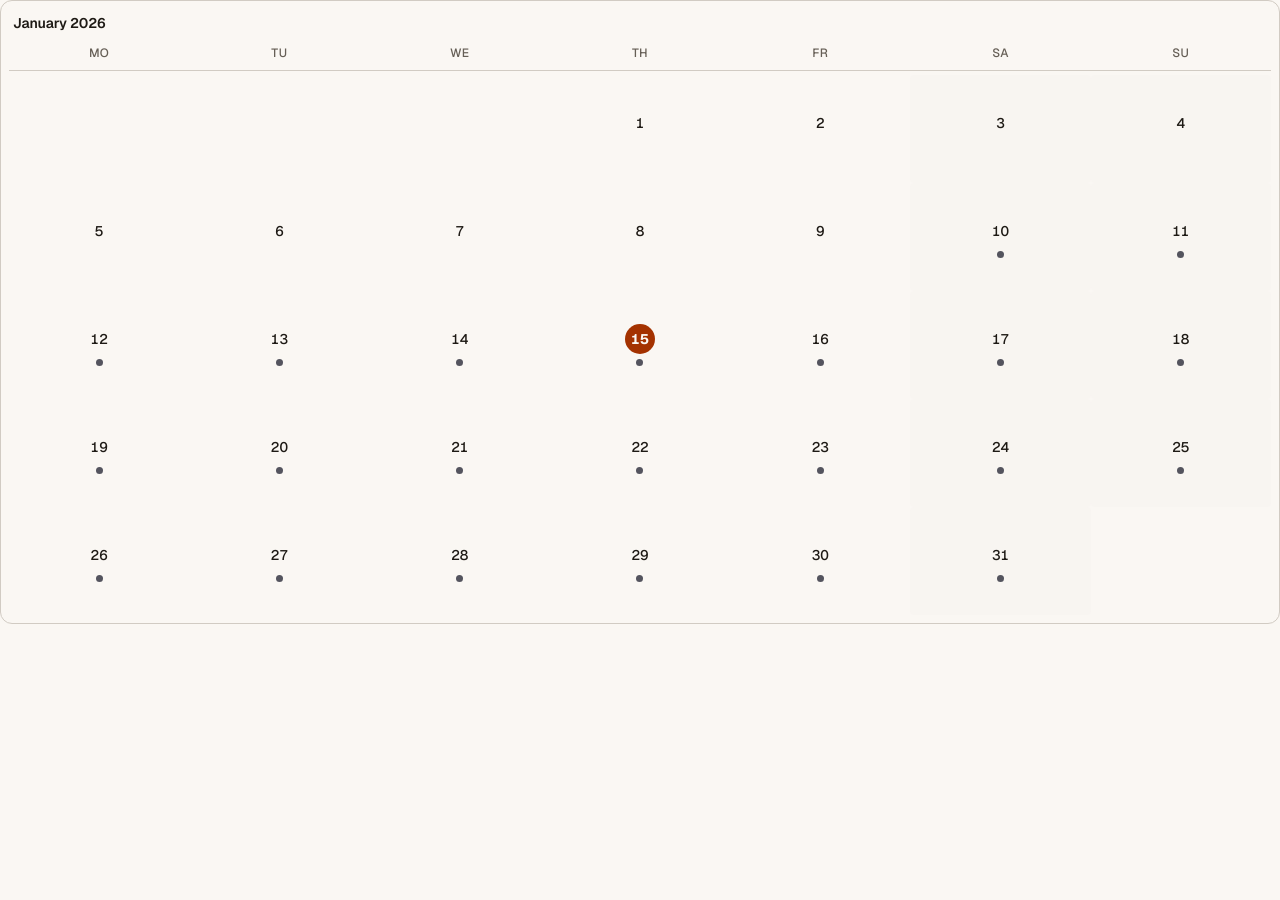
Test: the phone month view keeps every day reachable › opens the agenda of a day only once that day is chosen
Click the button "15" at point(640, 345), box [550,291,730,399]
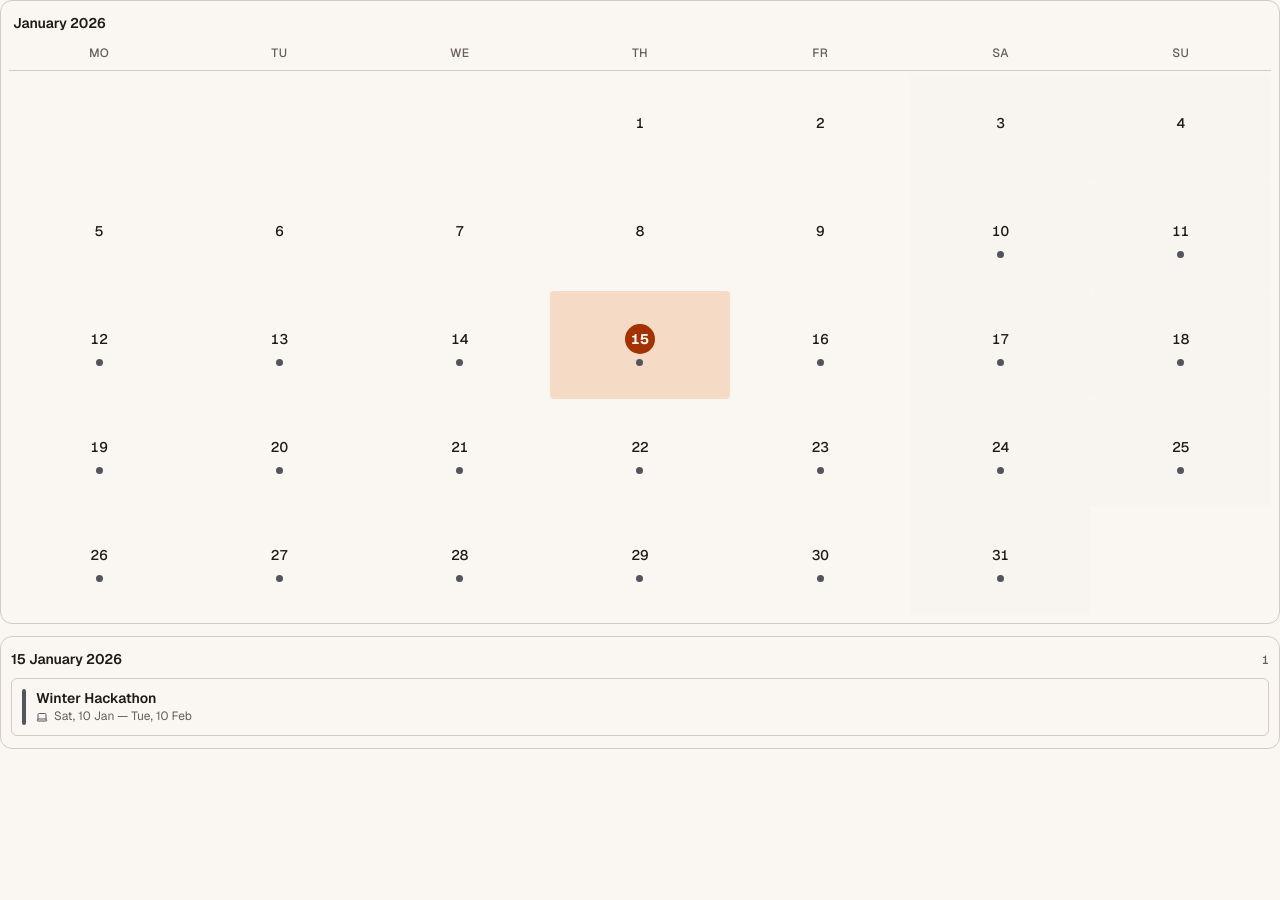
Check: the element showing "15 January 2026 1 Winter Hackathon Sat, 10 Jan — Tue, 10 Feb" is shown, box [0,636,1279,749]
